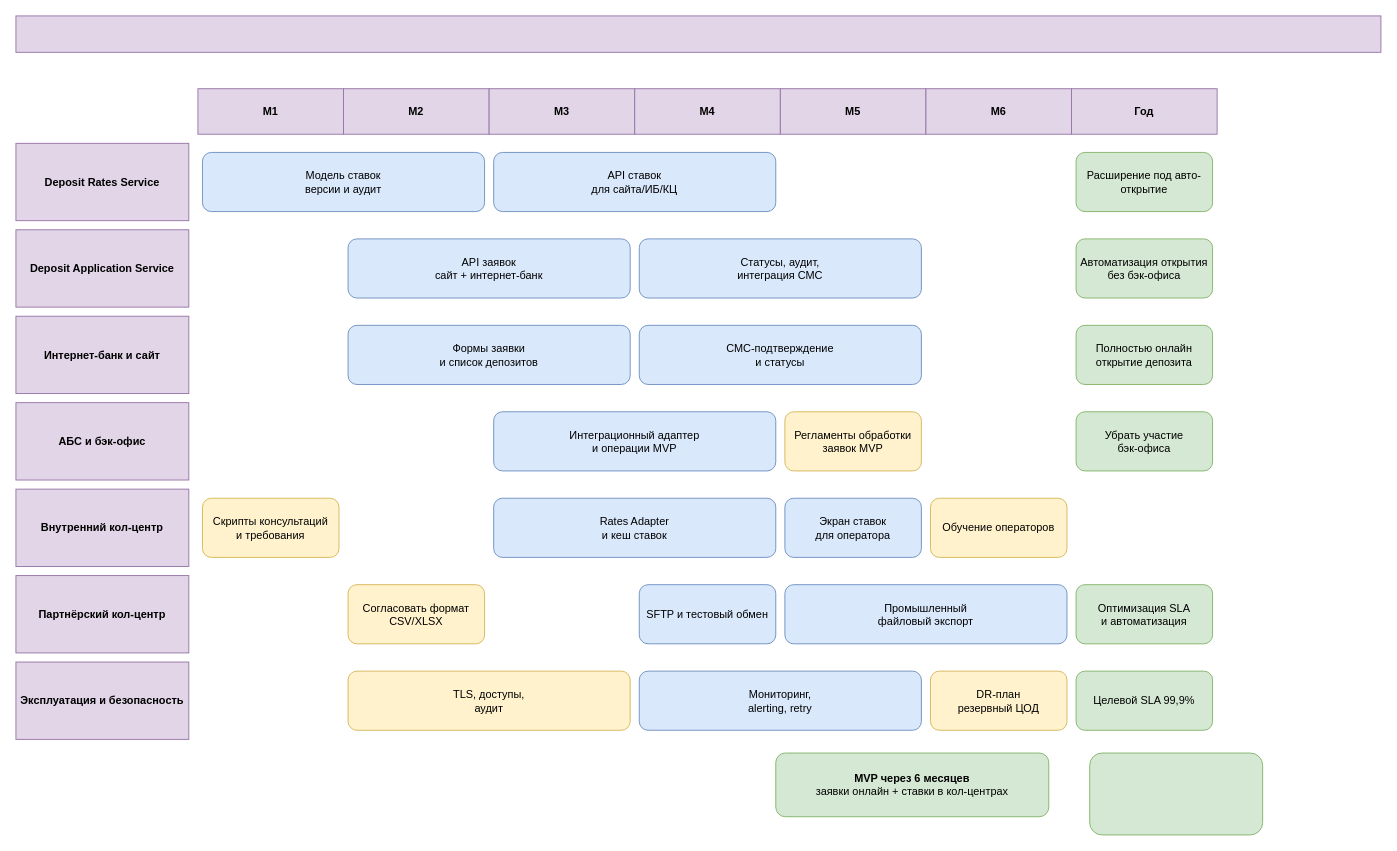
Some shapes in this 1397 by 851 pixel diagram are drawn without their labels. Here are the shapes that lost their labels. From the top down, the centre of each, then its label:
At (698,33): "RoadMap. MVP депозитов и передача ставок в кол-центры".
At (1176,793): "Целевое состояние через год депозит открывается автоматически без бэк-офиса".
